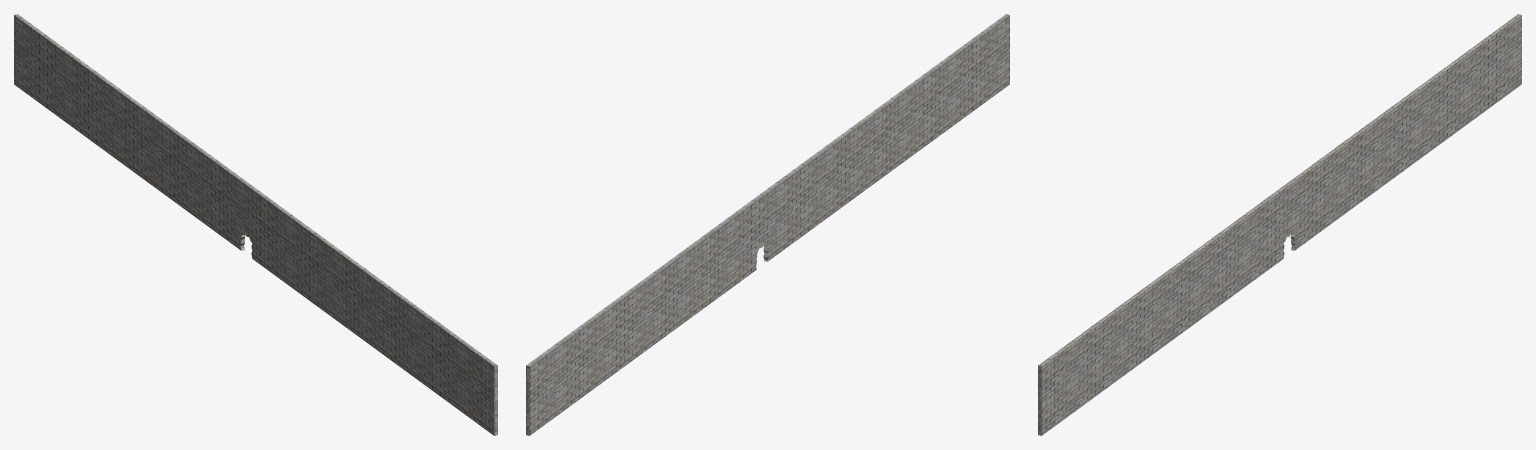
Rendered from Wall.fbx.
3 renders of one model, left to right at view 1: azimuth 30°, elevation 25°; view 2: azimuth 150°, elevation 25°; view 3: azimuth 330°, elevation 25°, orthographic.
Parts seen in each view (by area): view 1: Cube (11); view 2: Cube (11); view 3: Cube (11).
Boxes of the visible parts, bbox=[...] form: Cube (11): bbox=[14, 14, 497, 435]; Cube (11): bbox=[526, 14, 1009, 435]; Cube (11): bbox=[1038, 14, 1521, 435].
Bounding box in the file's own units: 24.44 × 455 × 5681.
